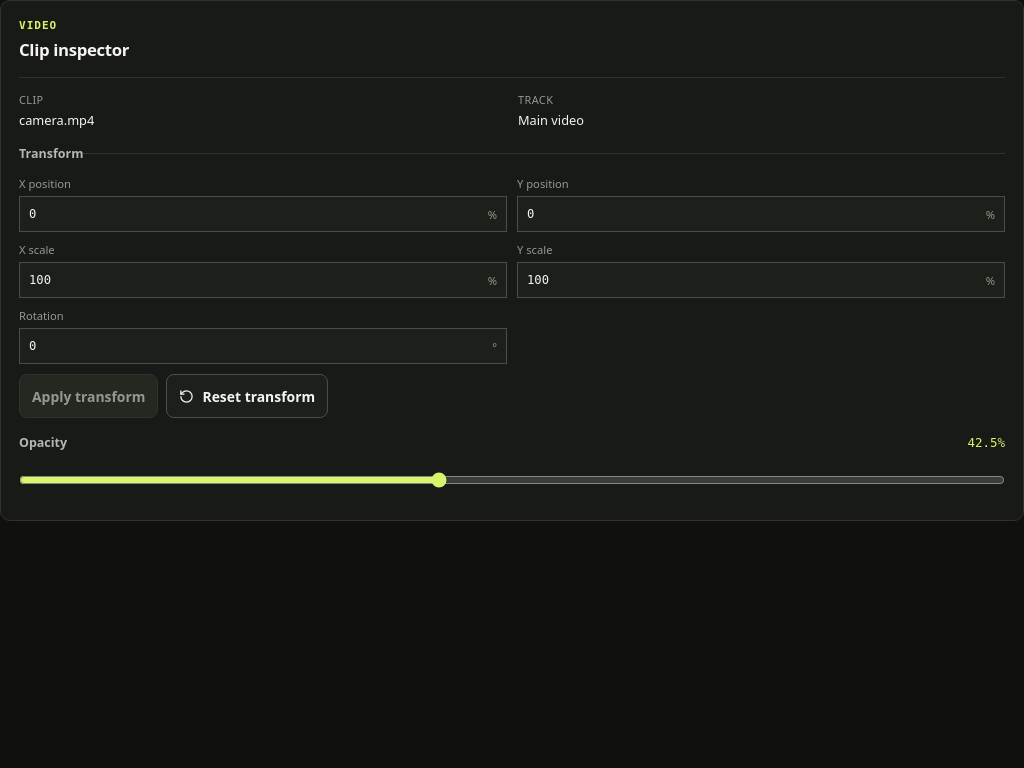
ClipInspector › rejects an invalid geometry draft before commit
Replace the text in the number field labelled "X scale" with "0" at [255, 280], box [29,273,482,287]
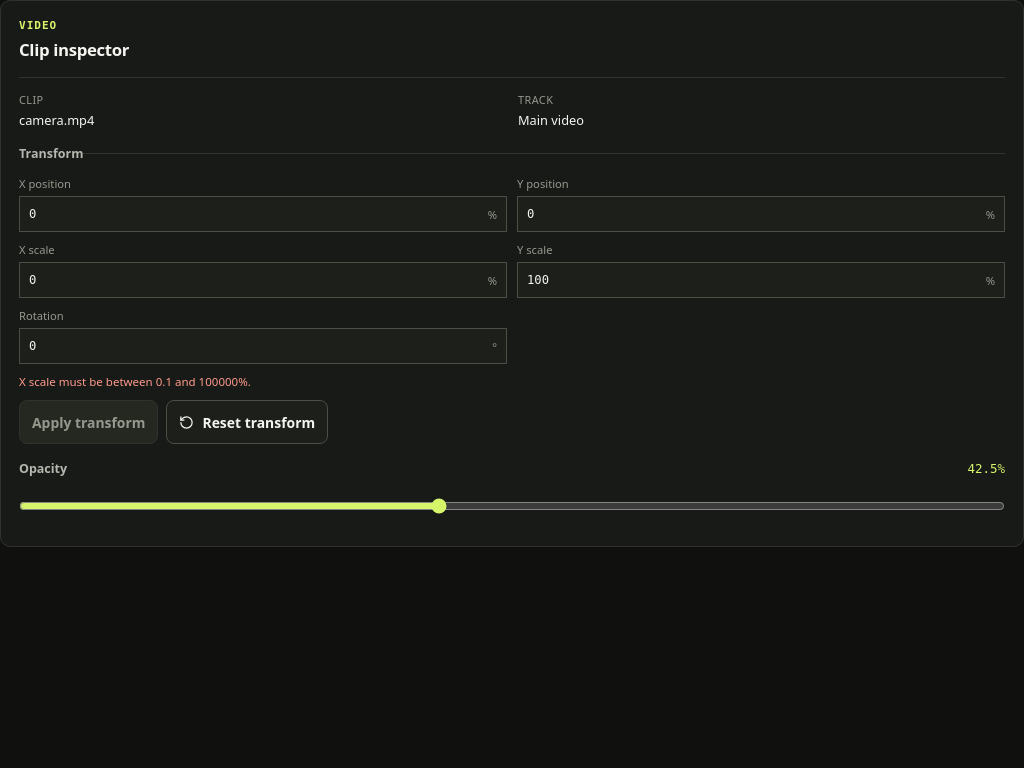
Check: the button "Apply transform" is disabled, box [19,400,158,444]
Check: the message reads "X scale must be between 0.1 and 100000%.", box [19,374,251,389]
